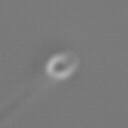normal: (1, 77, 50, 123)
